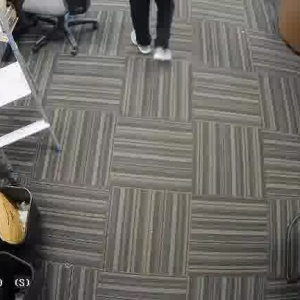person: (120, 0, 178, 68)
